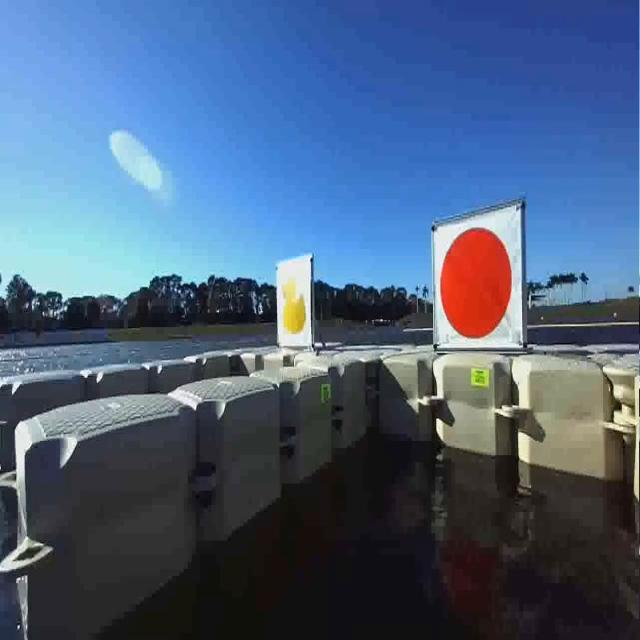red-dot: (433, 218, 519, 345)
yellow-duck: (274, 266, 309, 350)
